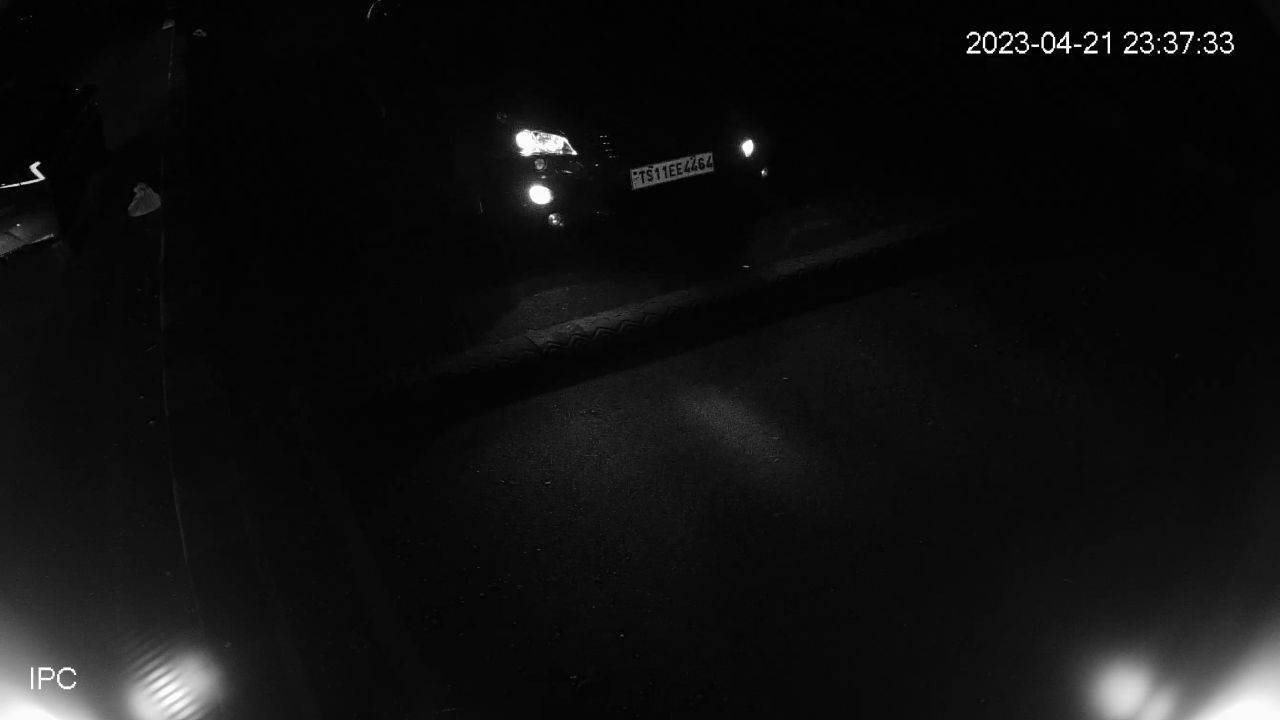license_plate: (625, 145, 717, 195)
